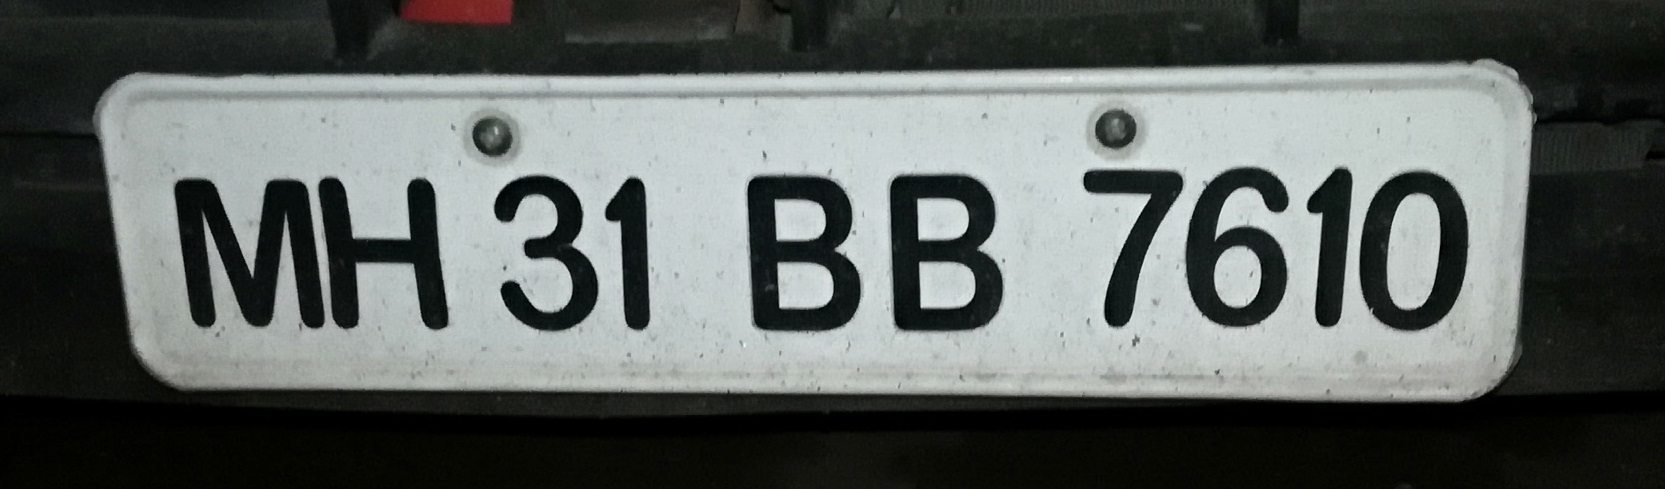numberplate: (94, 62, 1534, 411)
